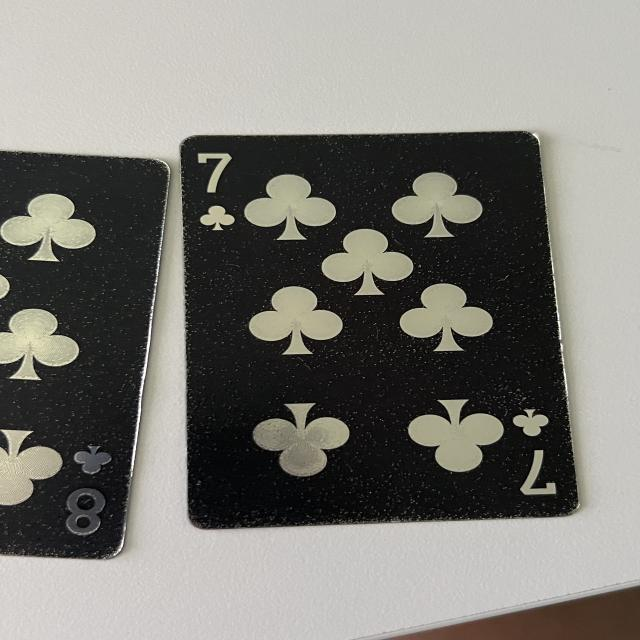7C: (509, 406, 566, 500), (188, 147, 244, 236)
8C: (65, 442, 116, 540)
